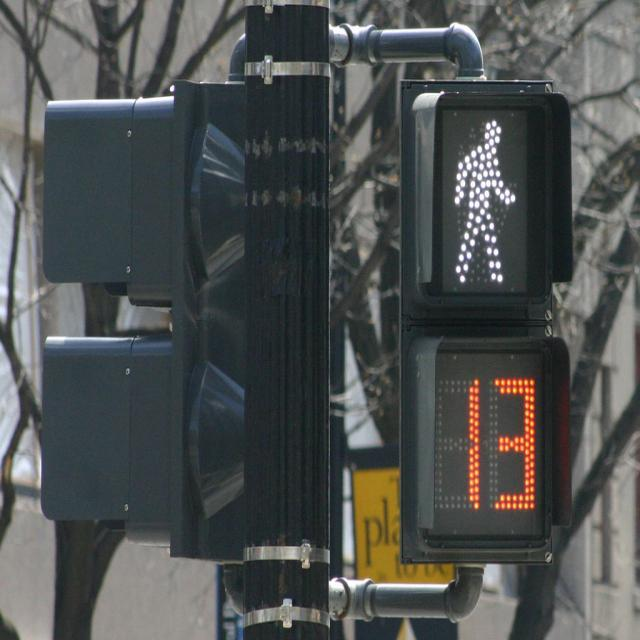off traffic light: (34, 86, 249, 558)
traffic light: (408, 83, 569, 560)
